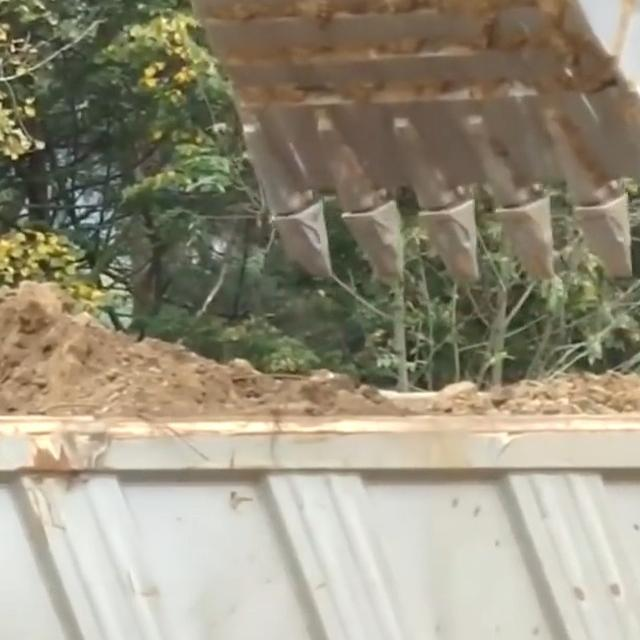Excavator: (158, 0, 640, 288)
dump truck: (0, 246, 640, 640)
